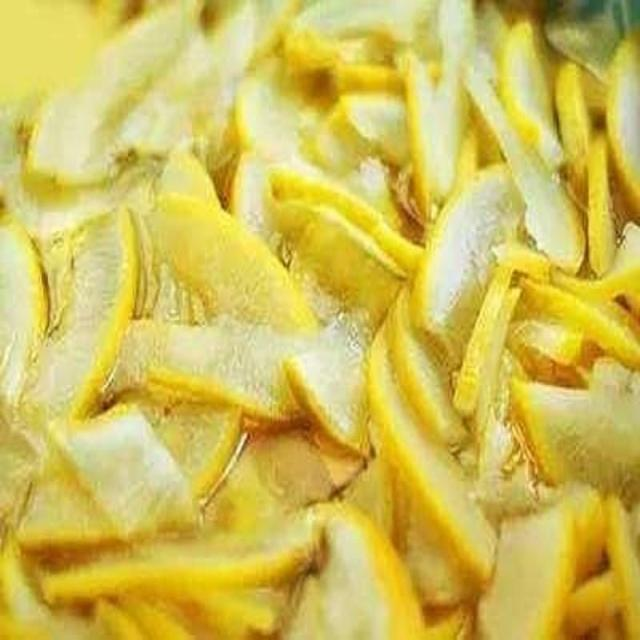Wet: (12, 15, 638, 638)
